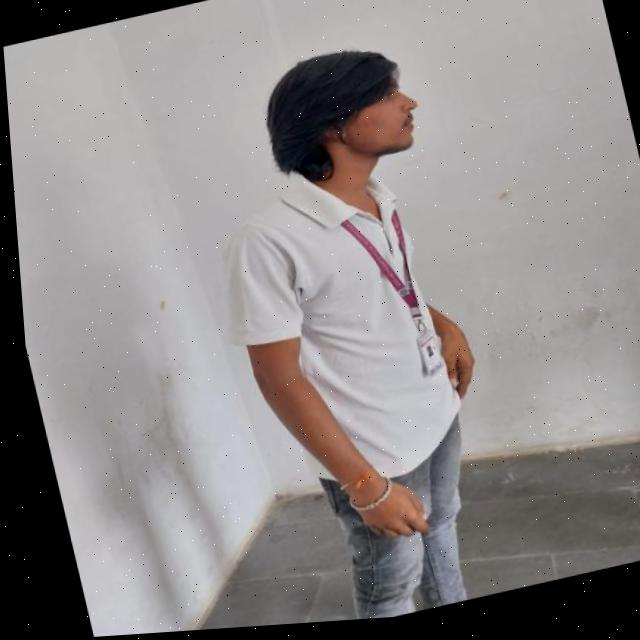id_card: (334, 205, 447, 392)
